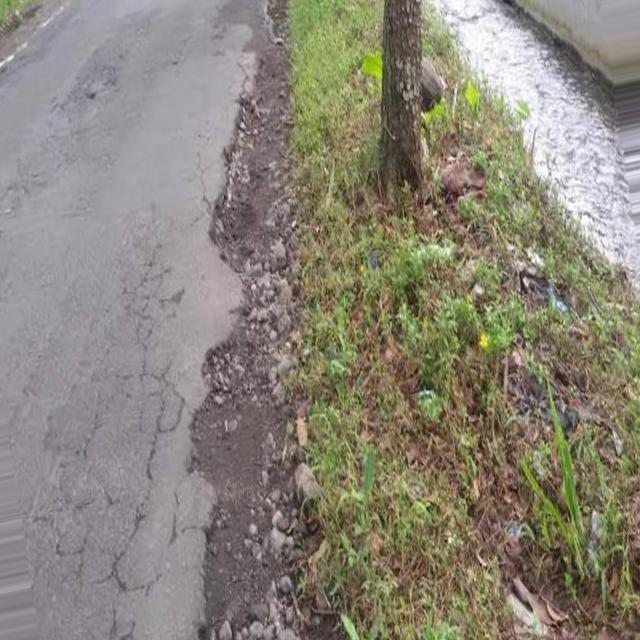Pinggir: (144, 61, 316, 640)
